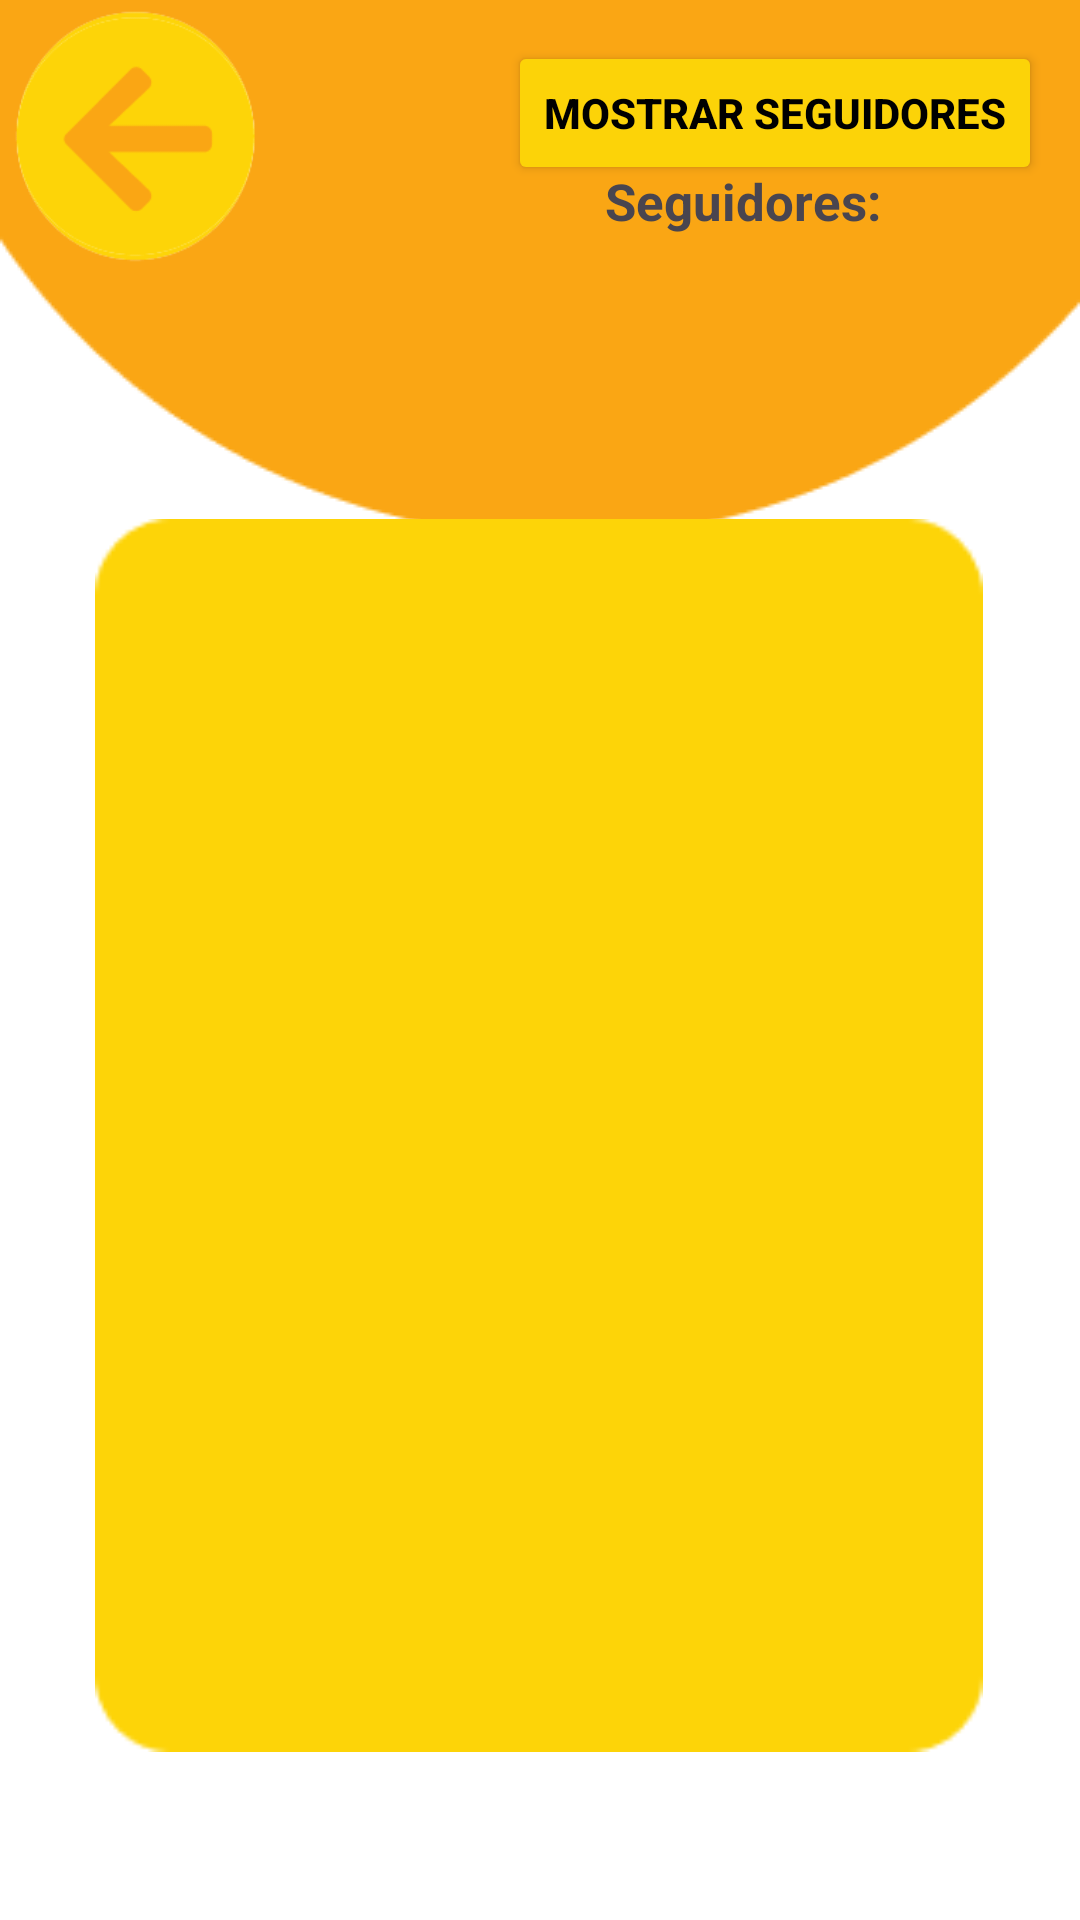

Locate icon controls on the screen. Image size 1080 x 1920, boxes as (x1, y1, x2, y2).
btnvolver: (17, 12, 255, 261)
